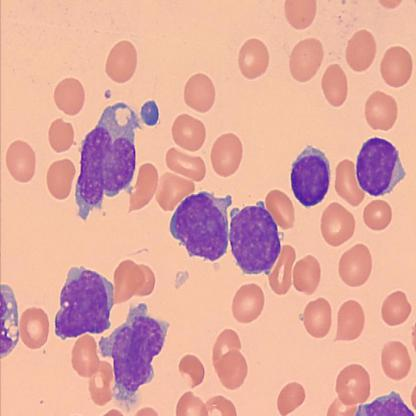Blast: (97, 300, 172, 412), (74, 101, 140, 224), (167, 187, 233, 264), (52, 263, 116, 340), (228, 198, 286, 280), (354, 135, 408, 200), (288, 142, 337, 210)
